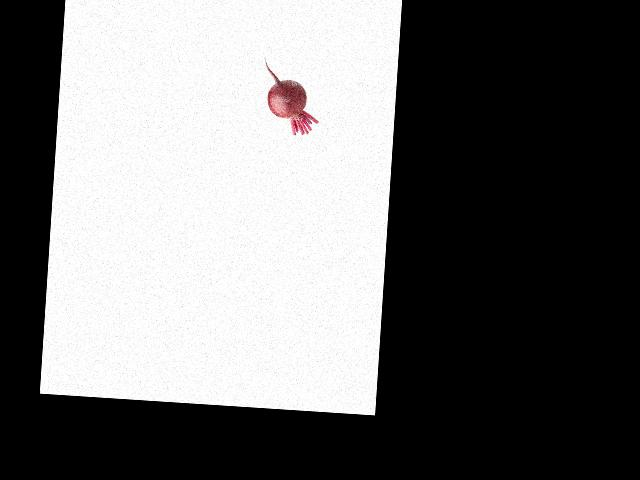beet: (260, 60, 322, 137)
